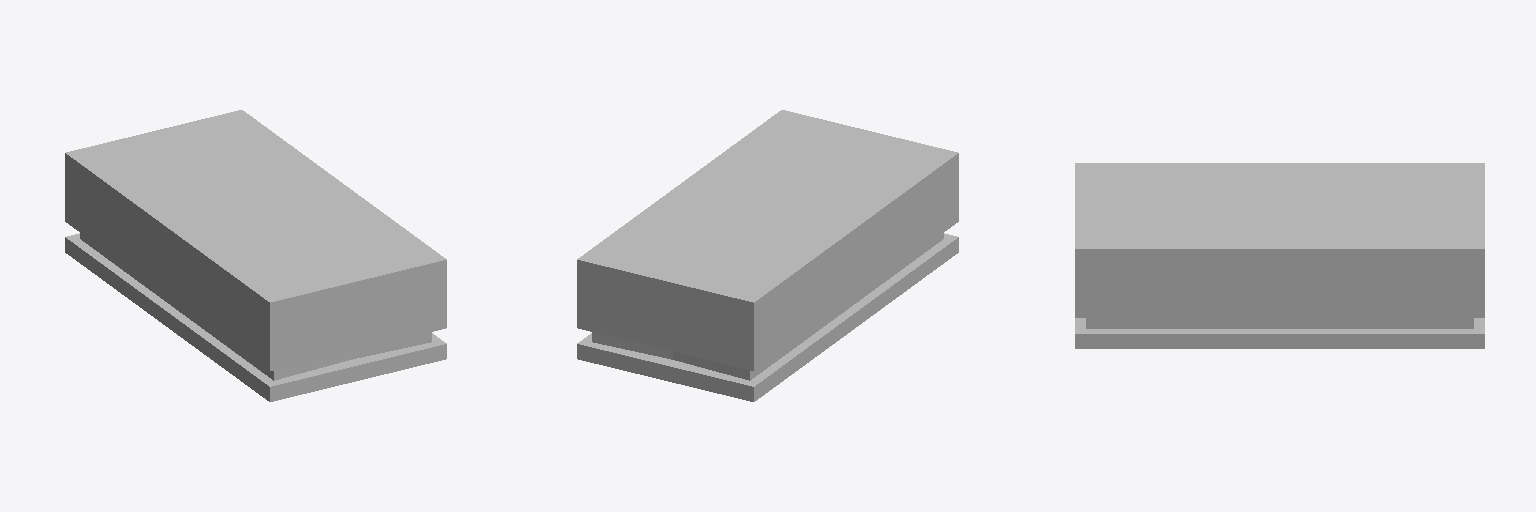
File: coffin_ataud.obj
3 renders of one model, left to right at view 1: azimuth 30°, elevation 25°; view 2: azimuth 150°, elevation 25°; view 3: azimuth 270°, elevation 25°, orthographic.
Visible parts, largest first — view 1: Ataud_Cube; view 2: Ataud_Cube; view 3: Ataud_Cube.
Part boxes in pixels (bbox=[...]): Ataud_Cube: bbox=[65, 110, 446, 401]; Ataud_Cube: bbox=[577, 110, 958, 401]; Ataud_Cube: bbox=[1075, 163, 1484, 348].
Size of the model in its own units: 4 by 2.15 by 8.02.